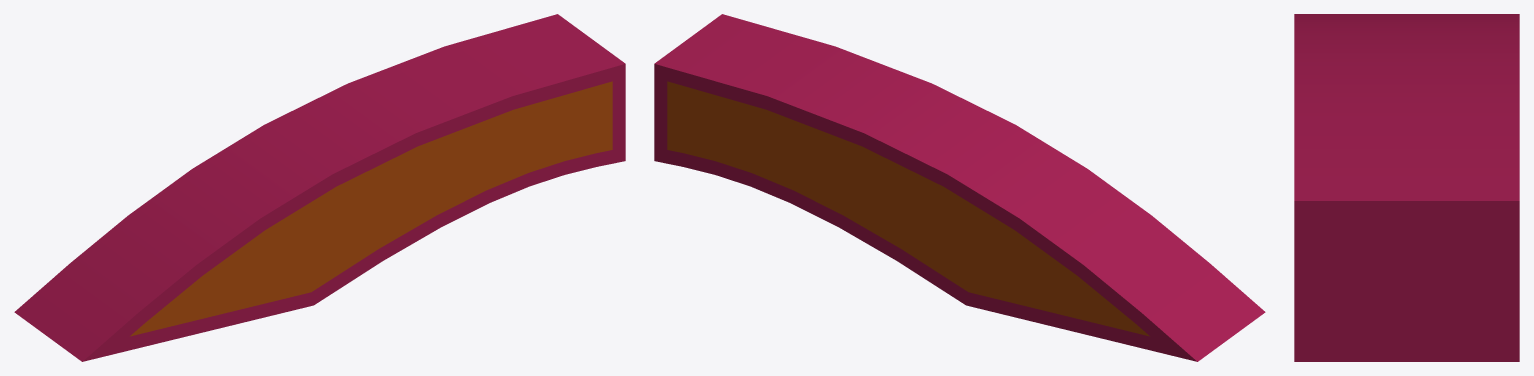
Rendered from GardenPlatform15.fbx.
3 renders of one model, left to right at view 1: azimuth 30°, elevation 25°; view 2: azimuth 150°, elevation 25°; view 3: azimuth 270°, elevation 25°, orthographic. The views are drawn at different scales.
Visible parts, largest first — view 1: GardenPlatform15; view 2: GardenPlatform15; view 3: GardenPlatform15.
Part boxes in pixels (x1,y1,x2,y2): GardenPlatform15: [14, 14, 625, 361]; GardenPlatform15: [654, 14, 1265, 361]; GardenPlatform15: [1294, 14, 1519, 361].
Size of the model in its own units: 3130 by 911 by 678.
